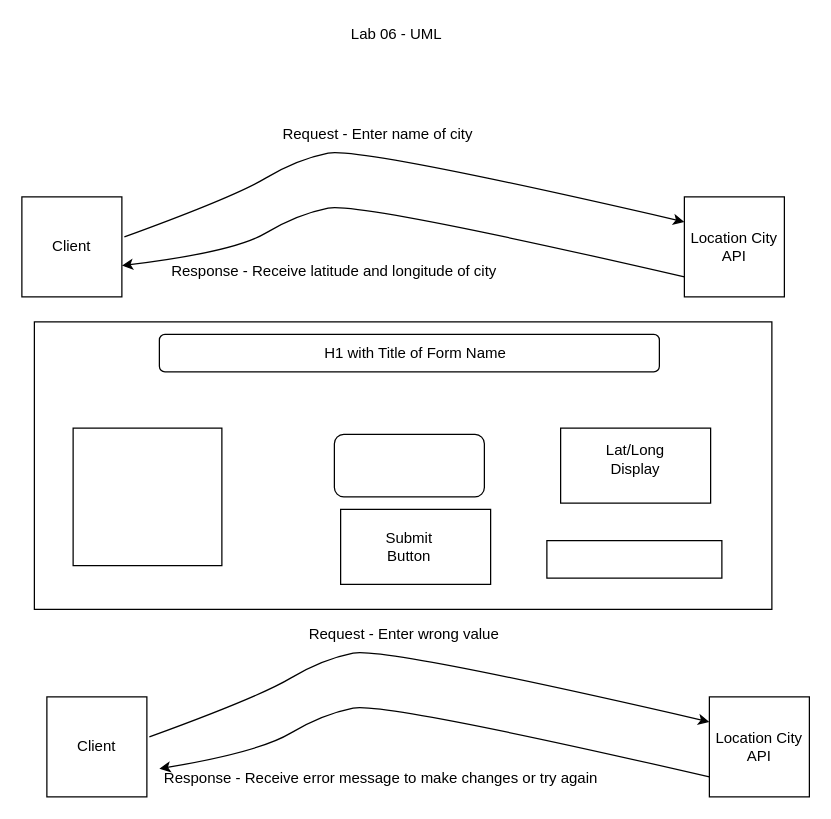
Some shapes in this 831 by 819 pixel diagram are drawn without their labels. Each missing label, with the centre of its shape:
City name Input: point (408, 465)
Error if Not Successful: point (634, 558)
Map if Successful: point (147, 496)
